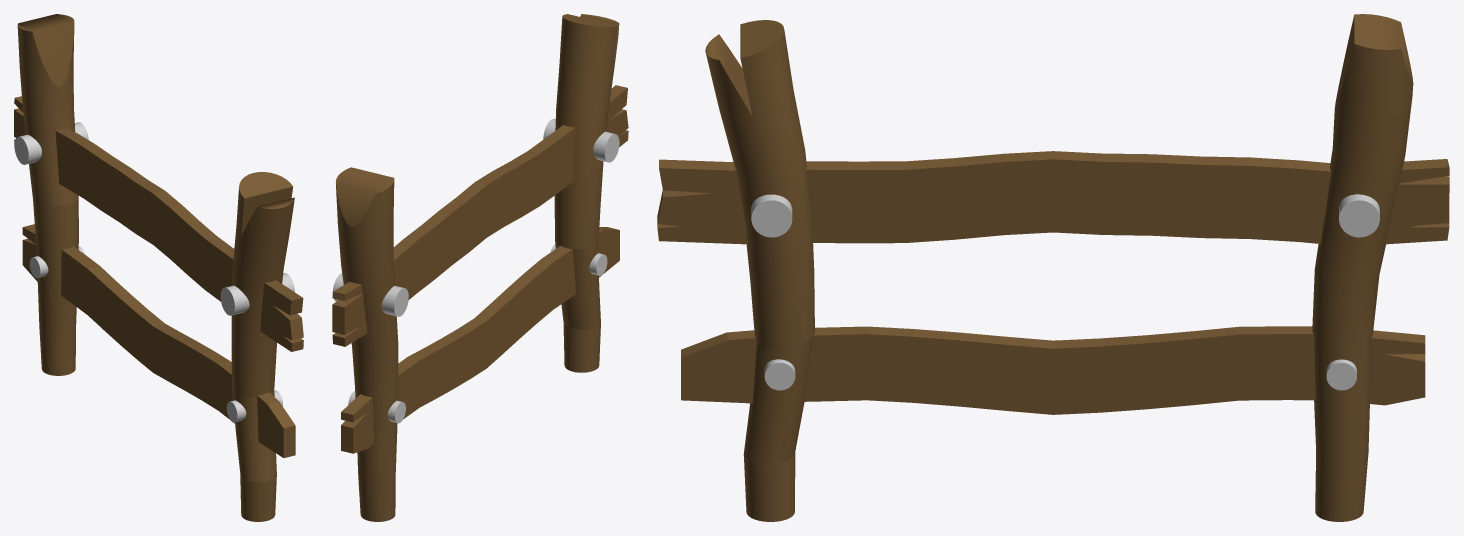
The model's file is fence2.fbx.
3 views of the same model, side by side, from view 1: azimuth 30°, elevation 25°; view 2: azimuth 150°, elevation 25°; view 3: azimuth 270°, elevation 25° (orthographic). The views are drawn at different scales.
Parts seen in each view (by area): view 1: Cylinder.010, Cube.003, Cylinder.011, Cube.002, Cylinder.009, Cylinder.006, Cylinder.008, Cylinder.007; view 2: Cylinder.011, Cube.003, Cylinder.010, Cube.002, Cylinder.009, Cylinder.006, Cylinder.007, Cylinder.008; view 3: Cube.003, Cube.002, Cylinder.010, Cylinder.011, Cylinder.009, Cylinder.006.
Part boxes in pixels (x1=…): Cylinder.010: x1=17, y1=14, x2=78, y2=375; Cube.003: x1=14, y1=96, x2=303, y2=351; Cylinder.011: x1=231, y1=172, x2=294, y2=521; Cube.002: x1=22, y1=224, x2=295, y2=457; Cylinder.009: x1=220, y1=273, x2=294, y2=315; Cylinder.006: x1=14, y1=122, x2=88, y2=164; Cylinder.008: x1=226, y1=390, x2=282, y2=422; Cylinder.007: x1=29, y1=246, x2=84, y2=278; Cylinder.011: x1=554, y1=14, x2=619, y2=372; Cube.003: x1=332, y1=85, x2=628, y2=346; Cylinder.010: x1=335, y1=167, x2=398, y2=521; Cube.002: x1=341, y1=227, x2=619, y2=453; Cylinder.009: x1=543, y1=119, x2=619, y2=162; Cylinder.006: x1=332, y1=273, x2=408, y2=316; Cylinder.007: x1=348, y1=391, x2=405, y2=423; Cylinder.008: x1=550, y1=244, x2=607, y2=275; Cube.003: x1=657, y1=151, x2=1449, y2=244; Cube.002: x1=681, y1=326, x2=1425, y2=414; Cylinder.010: x1=1312, y1=14, x2=1413, y2=521; Cylinder.011: x1=705, y1=20, x2=814, y2=521; Cylinder.009: x1=751, y1=194, x2=792, y2=237; Cylinder.006: x1=1339, y1=194, x2=1379, y2=237.
Bounding box in the file's own units: 245 × 1319 × 1962.
